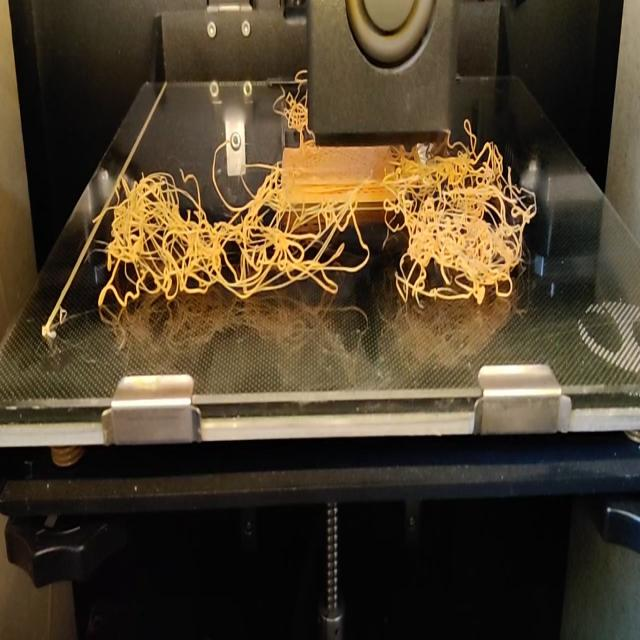spaghetti: (89, 148, 539, 316), (273, 60, 309, 146), (450, 116, 480, 142)
